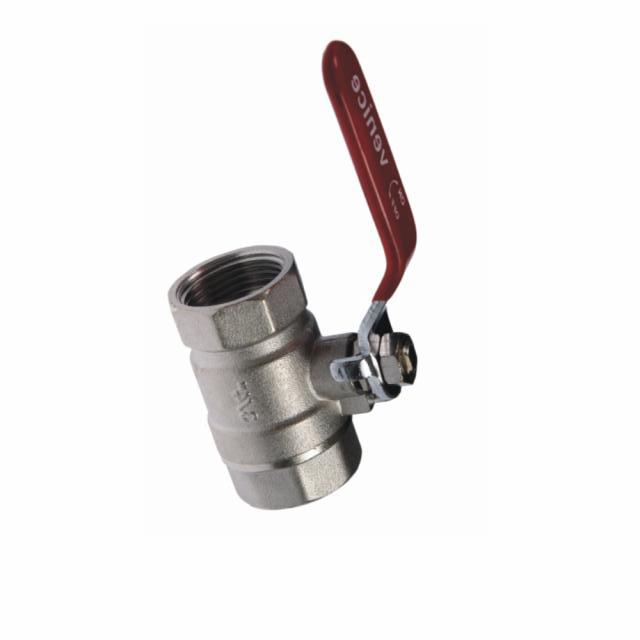opened valve: (163, 37, 422, 515)
